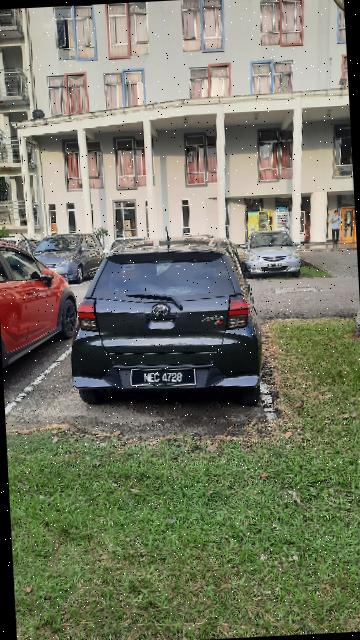License_Plate: (128, 364, 200, 393)
car: (65, 222, 271, 414), (1, 230, 83, 376), (37, 225, 109, 284), (243, 225, 307, 282)
